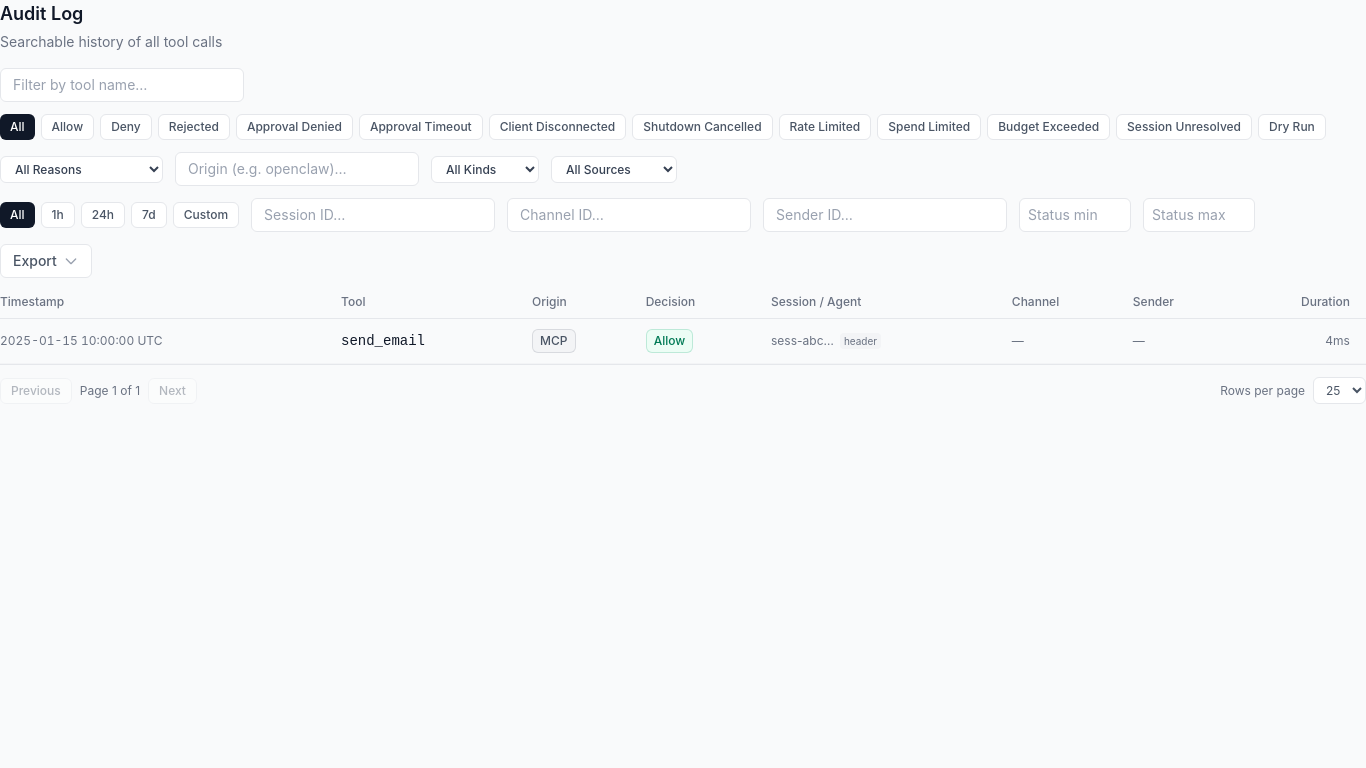
AuditPage › opens detail panel on row click and loads record
Click the text "send_email" at (383, 341), box [341,318,532,364]
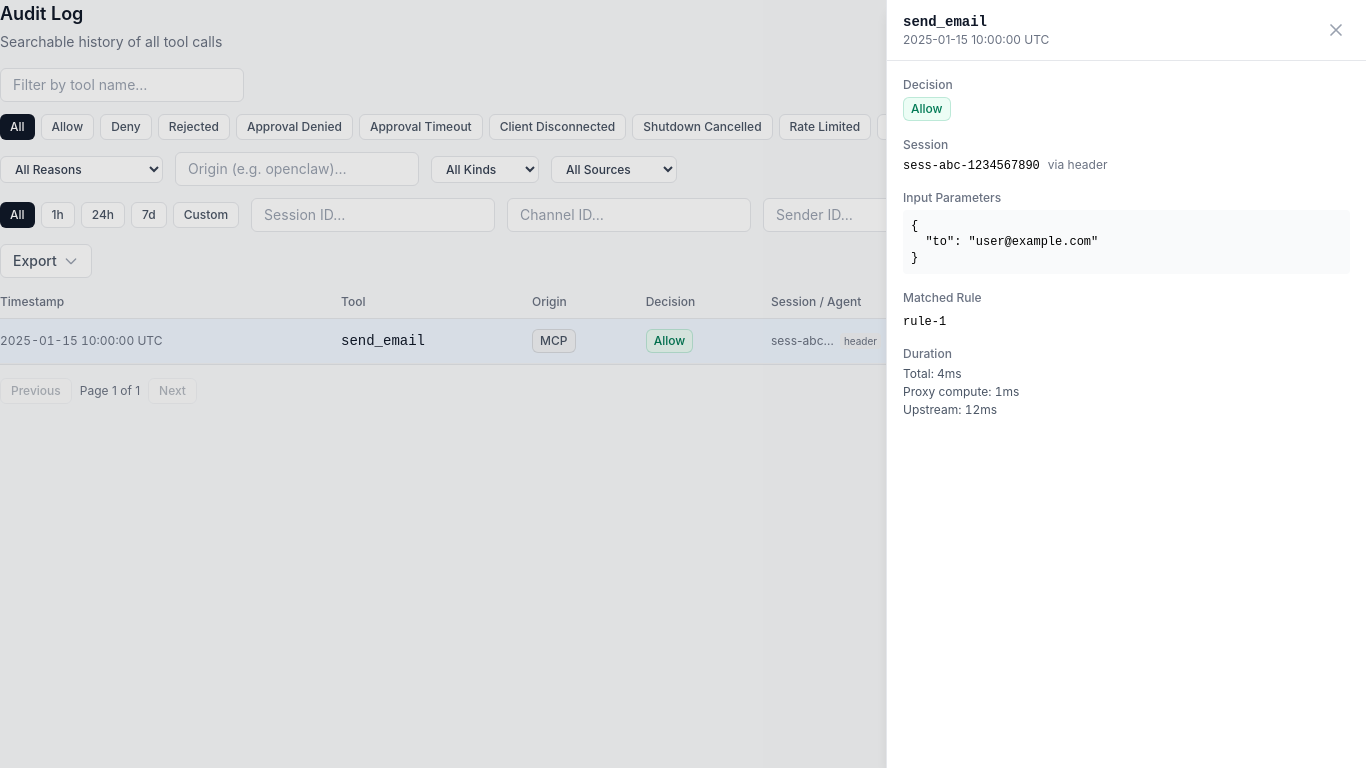
Check: the text "Input Parameters" is shown, box [903,190,1001,205]
